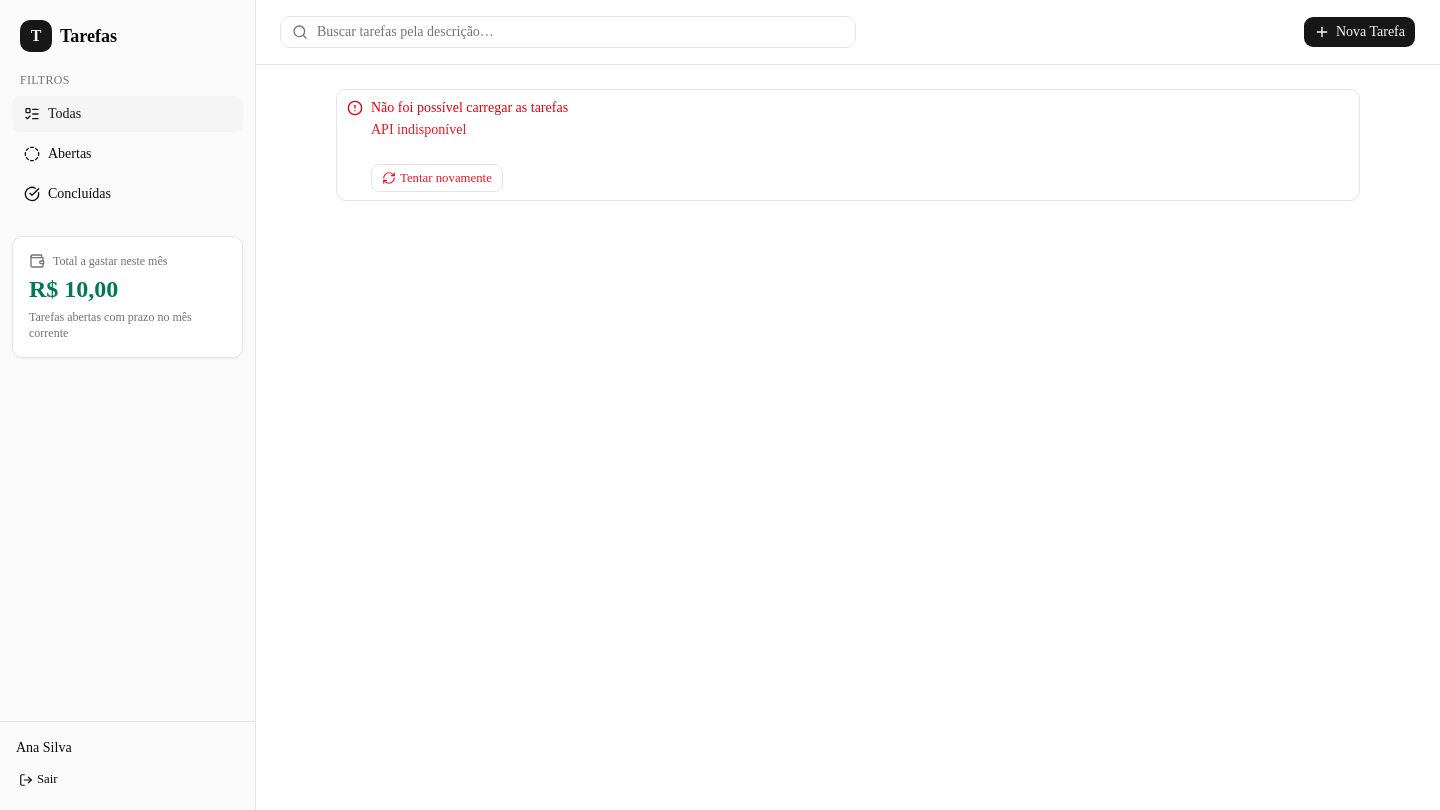
Dashboard › deve exibir erro de carregamento com opção de tentar novamente
Expected: the message shows "API indisponível", [371,122,466,137]
Click the button "Tentar novamente" at (437, 178), box [371,164,503,192]
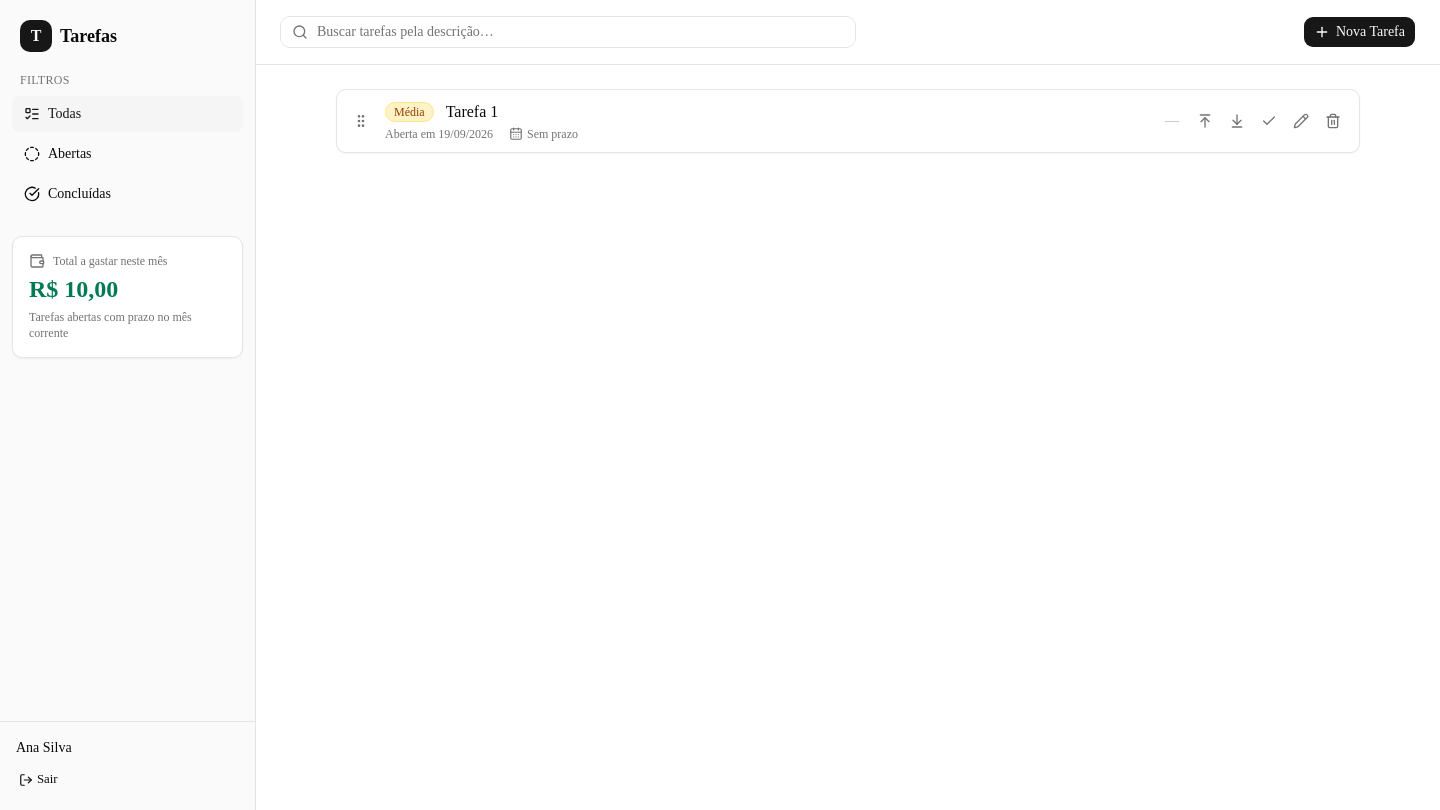
Now the button "Tarefa 1" is shown, box [446,100,498,124]
